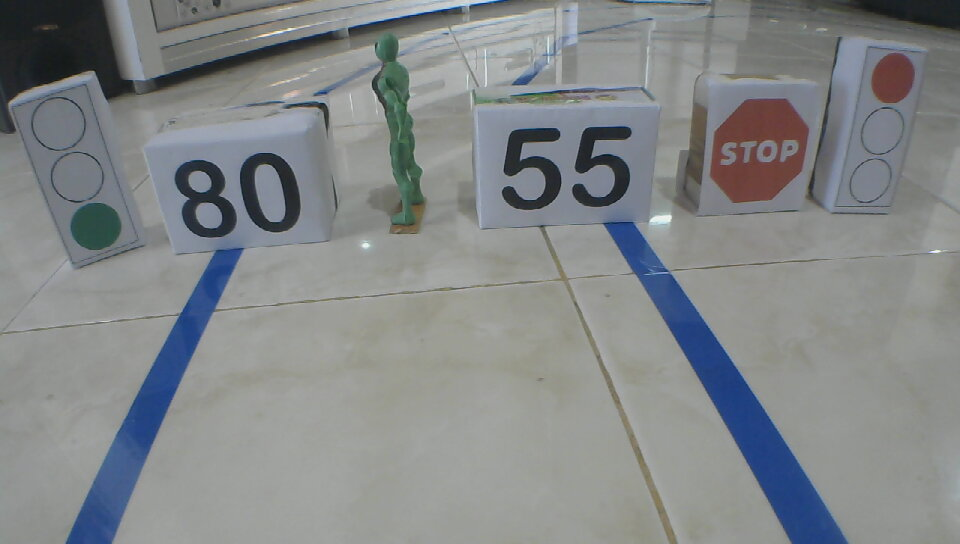Green Light: (29, 94, 125, 253)
Person: (368, 29, 430, 228)
Red Light: (847, 51, 916, 204)
Speed 55: (499, 122, 636, 211)
Speed 80: (175, 152, 302, 238)
Stop: (708, 96, 809, 204)
